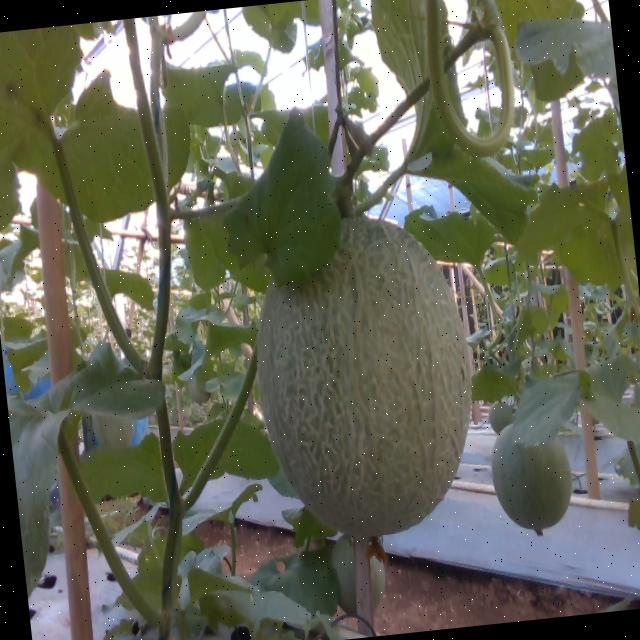melon: (258, 217, 472, 535)
